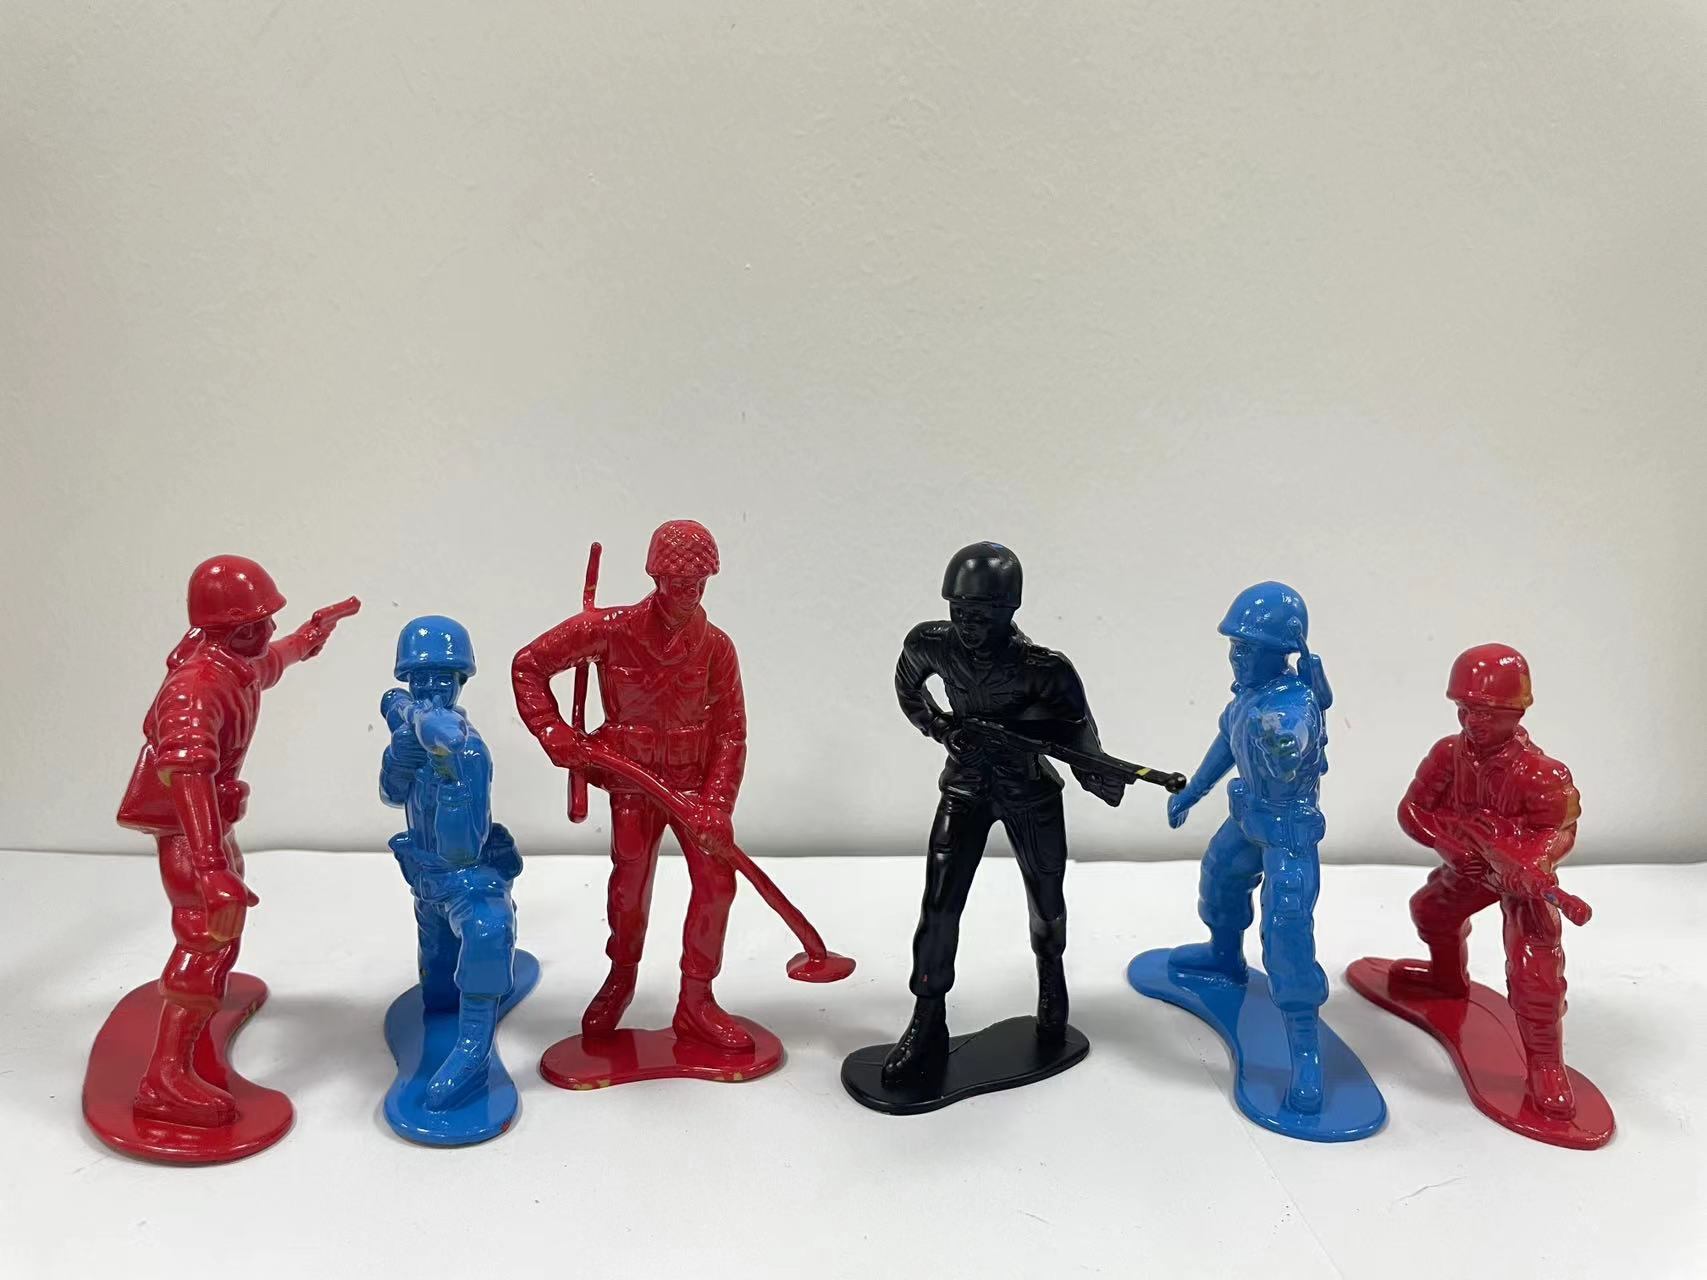black: (851, 527, 1126, 1136)
blue: (1128, 555, 1392, 1170), (379, 592, 542, 1182)
red: (526, 457, 844, 1143), (65, 518, 370, 1186), (1359, 624, 1677, 1182)
